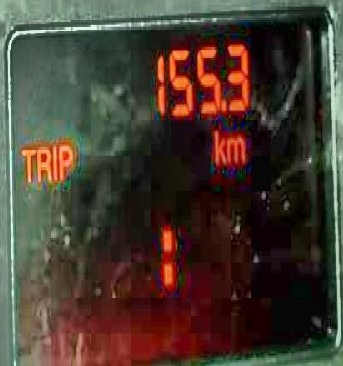-: (218, 95, 225, 113)
1: (155, 46, 165, 115)
3: (226, 40, 247, 111)
5: (194, 40, 218, 115), (168, 44, 191, 120)
X: (160, 215, 176, 295), (18, 140, 34, 186), (36, 142, 51, 182), (57, 140, 72, 178), (226, 133, 245, 162), (212, 124, 224, 164), (52, 140, 57, 184)
